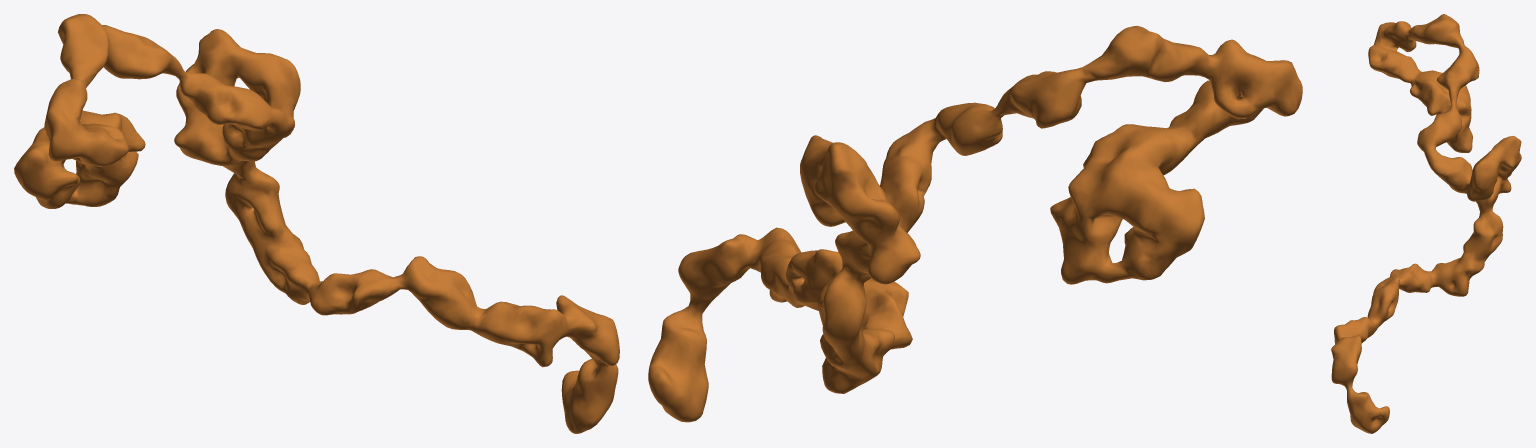
The model's file is FactorH1.dae.
3 renders of one model, left to right at view 1: azimuth 30°, elevation 25°; view 2: azimuth 150°, elevation 25°; view 3: azimuth 270°, elevation 25°, orthographic. The views are drawn at different scales.
Visible parts, largest first — view 1: CoarseMS_3gauMSsuper; view 2: CoarseMS_3gauMSsuper; view 3: CoarseMS_3gauMSsuper.
Boxes of the visible parts, x1,y1,x2,y2 form: CoarseMS_3gauMSsuper: (14, 14, 619, 433); CoarseMS_3gauMSsuper: (648, 26, 1302, 422); CoarseMS_3gauMSsuper: (1331, 14, 1521, 433).
Bounding box in the file's own units: 258 × 215 × 129.
